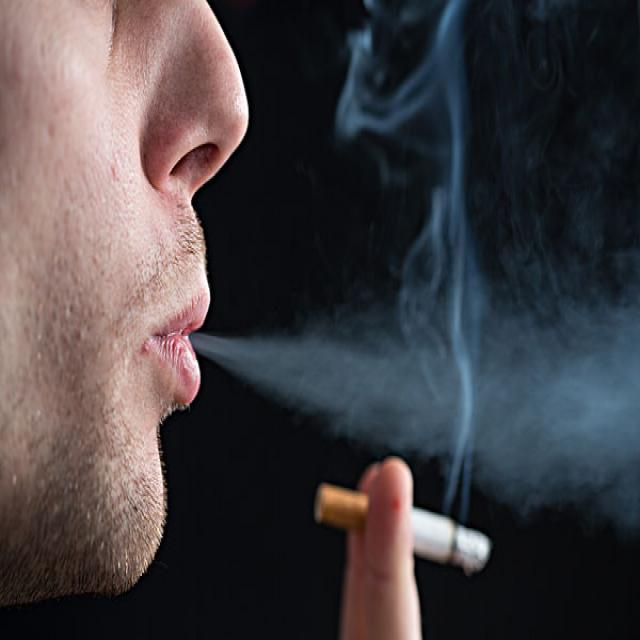smoking: (313, 482, 499, 568)
